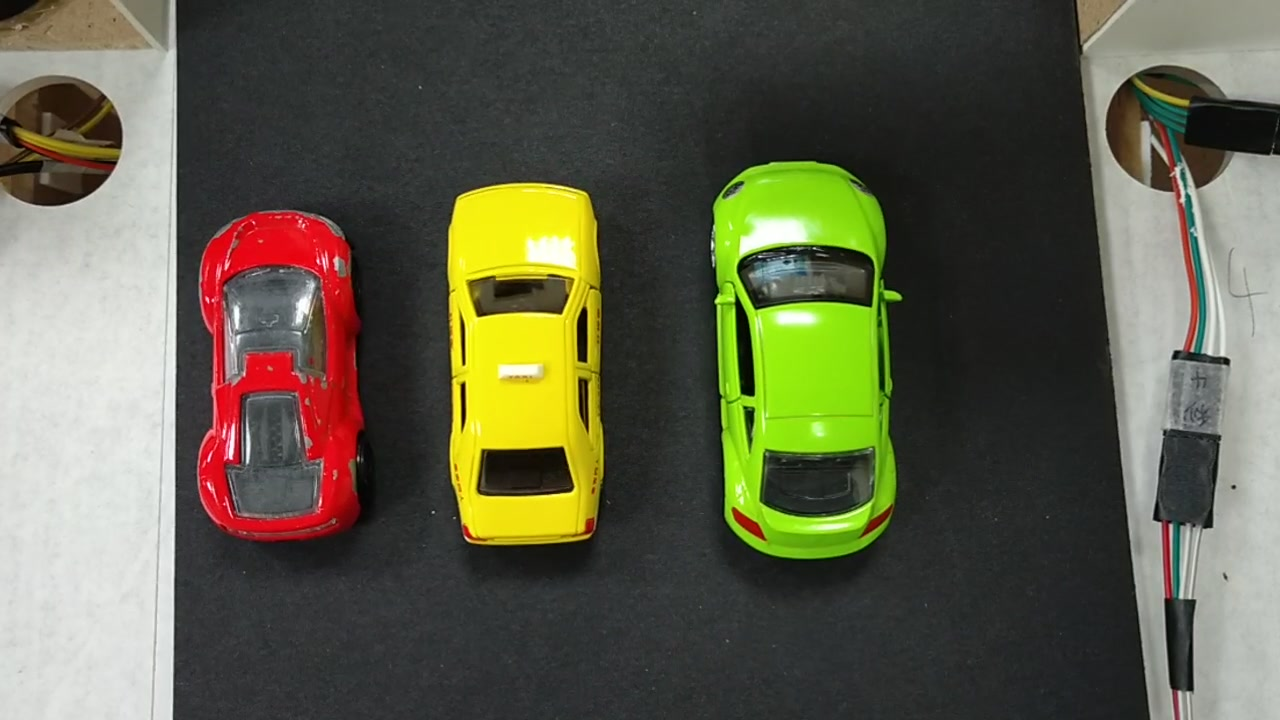car: (706, 153, 897, 562), (439, 178, 616, 548), (198, 214, 376, 541)
